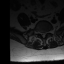CCS_normal: (42, 30, 44, 39)
LFS_severe_stenosis: (46, 29, 48, 35)
LLS_normal: (44, 30, 46, 38)
RFS_stenosis: (39, 29, 41, 35)
RLS_normal: (41, 30, 42, 37)
